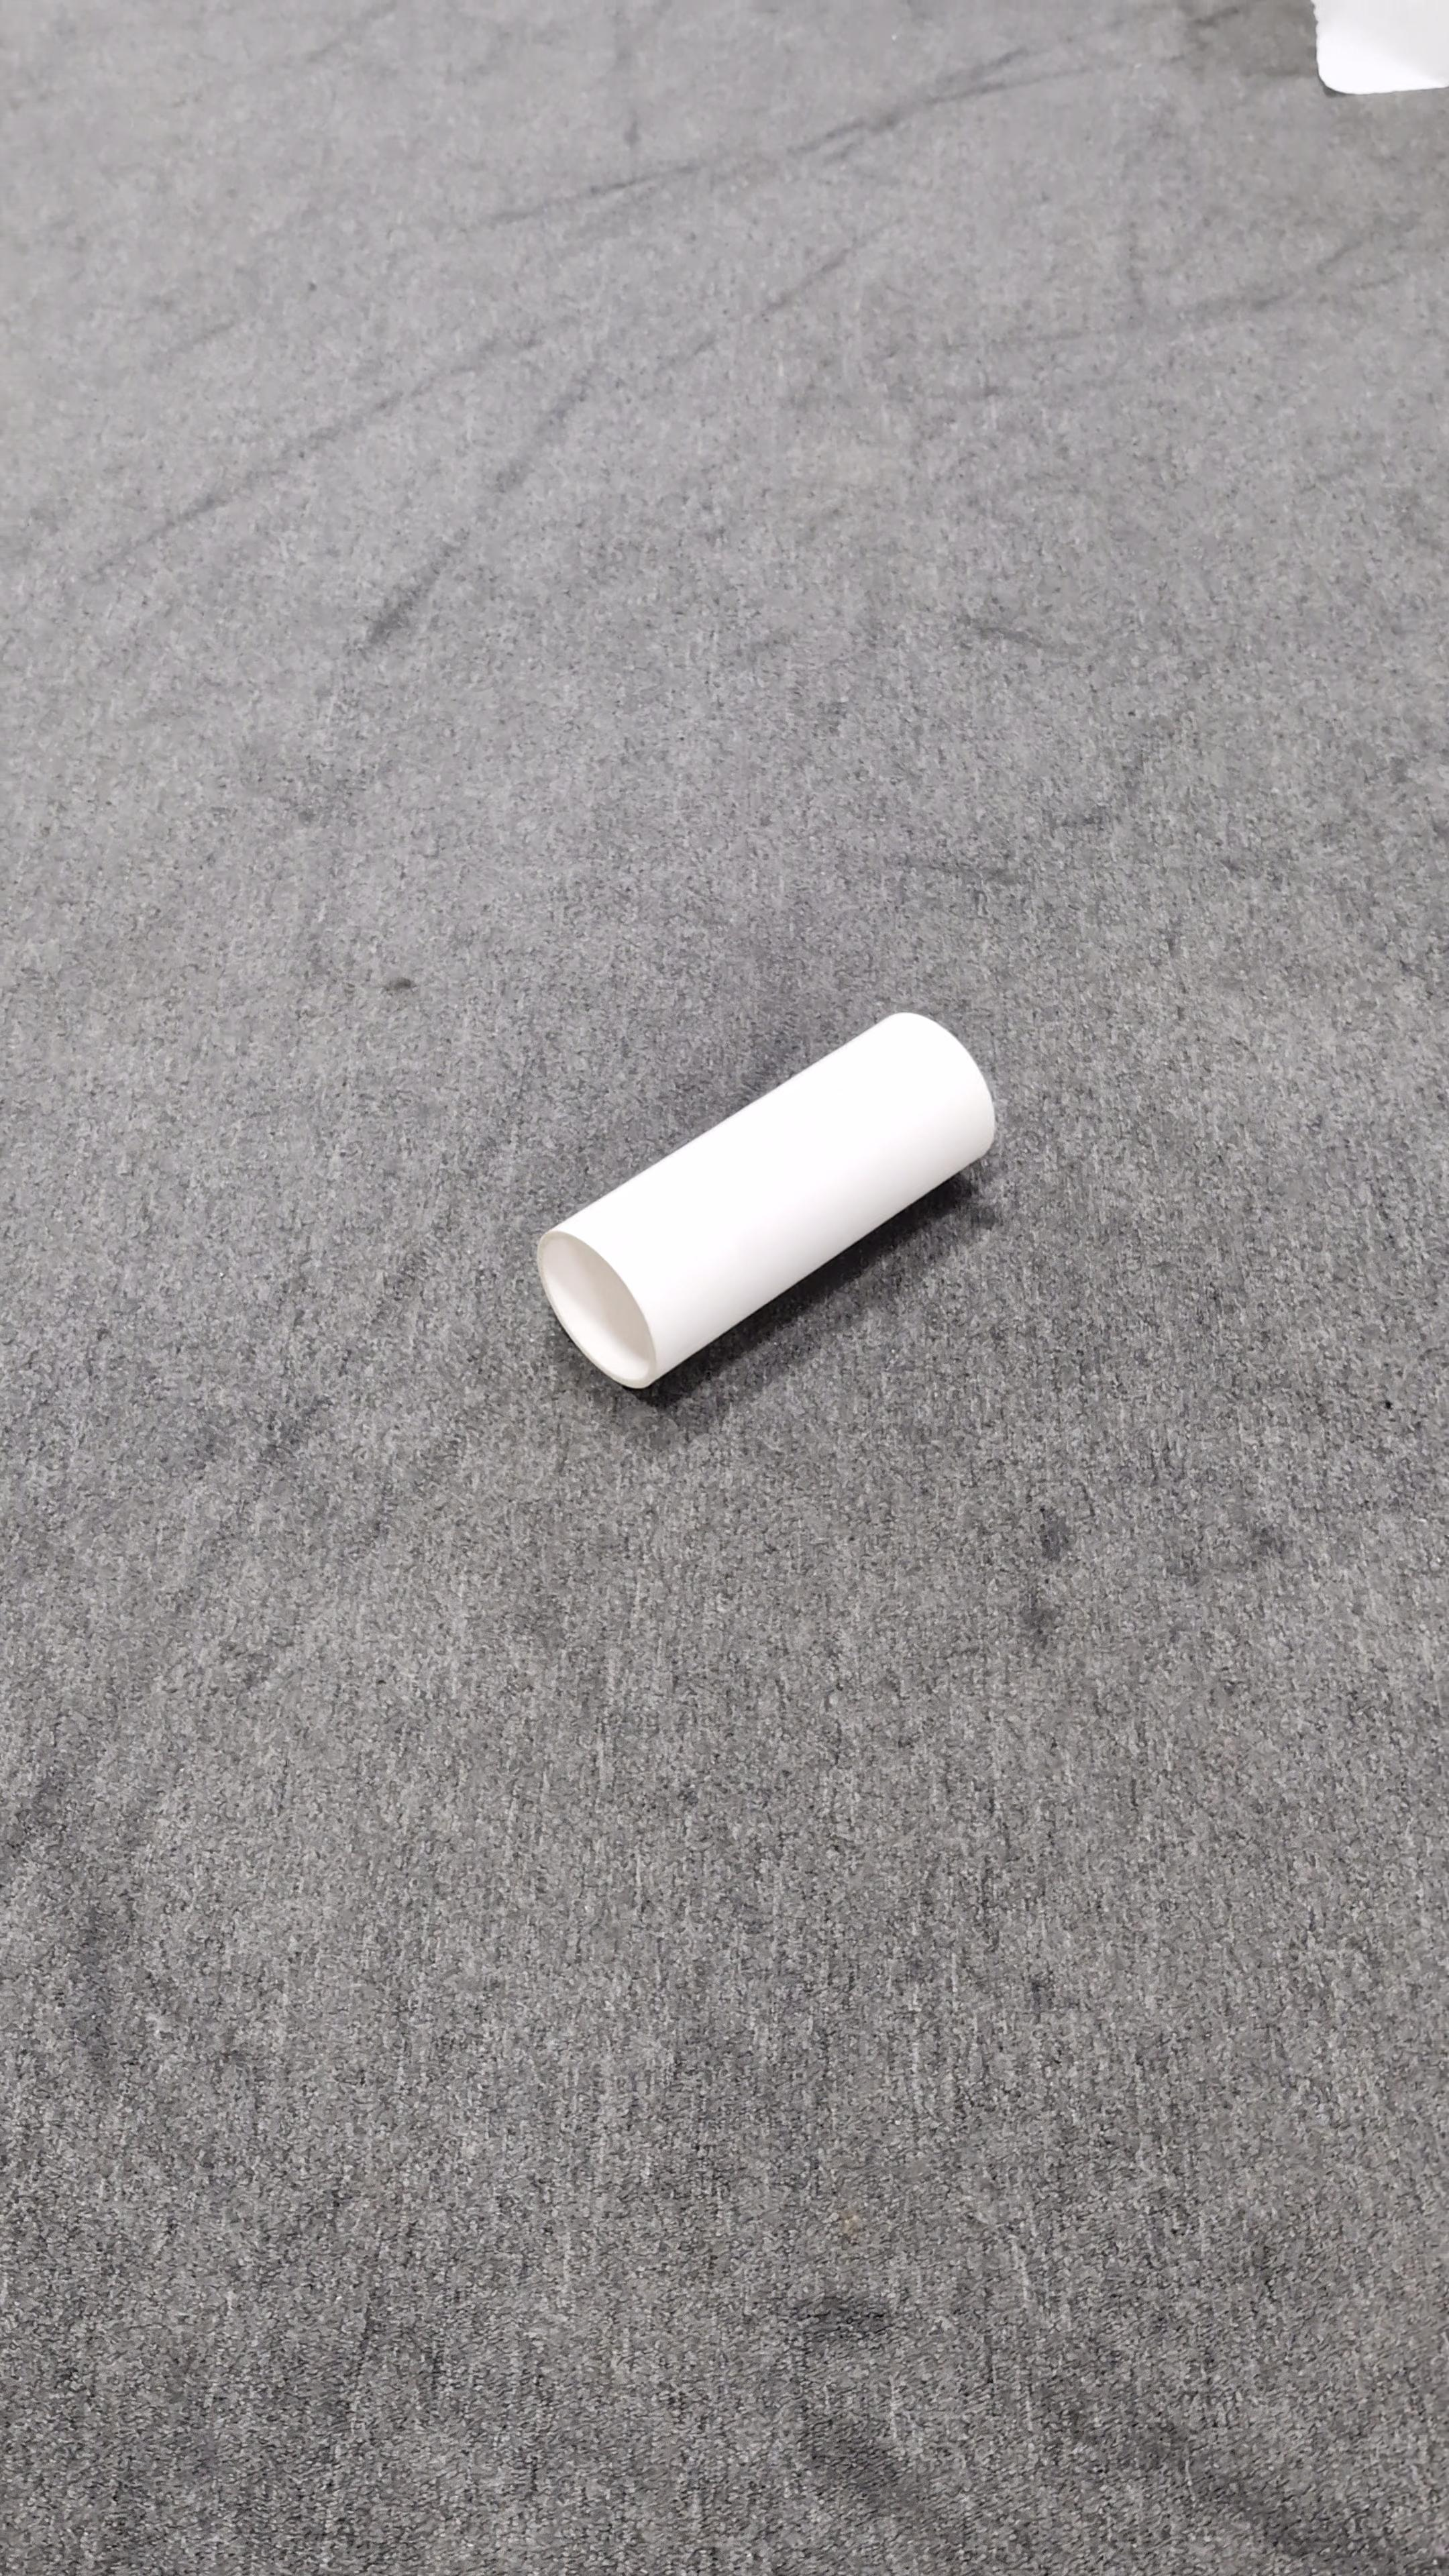coral: (536, 1005, 1000, 1389)
